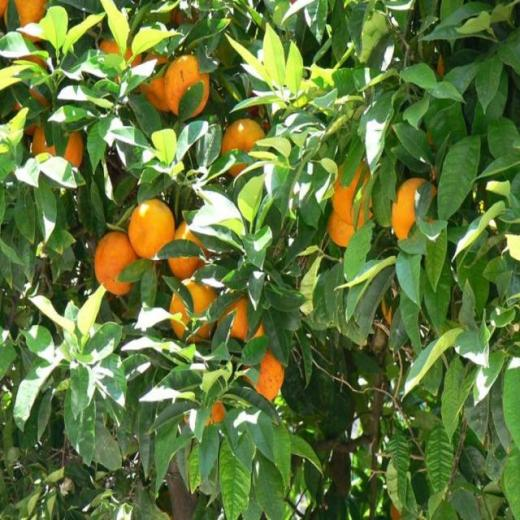Grape: (168, 275, 222, 346), (128, 199, 175, 263), (331, 160, 374, 228), (390, 179, 437, 241), (165, 56, 209, 120), (94, 231, 138, 294), (222, 118, 266, 179), (167, 221, 210, 281), (31, 119, 83, 167), (216, 294, 264, 343), (242, 347, 284, 401), (138, 52, 170, 114), (98, 37, 141, 83), (12, 84, 50, 136), (3, 0, 47, 41), (326, 208, 356, 248), (183, 398, 226, 424), (10, 39, 46, 67), (381, 284, 399, 326), (169, 4, 196, 28), (390, 502, 401, 518)
